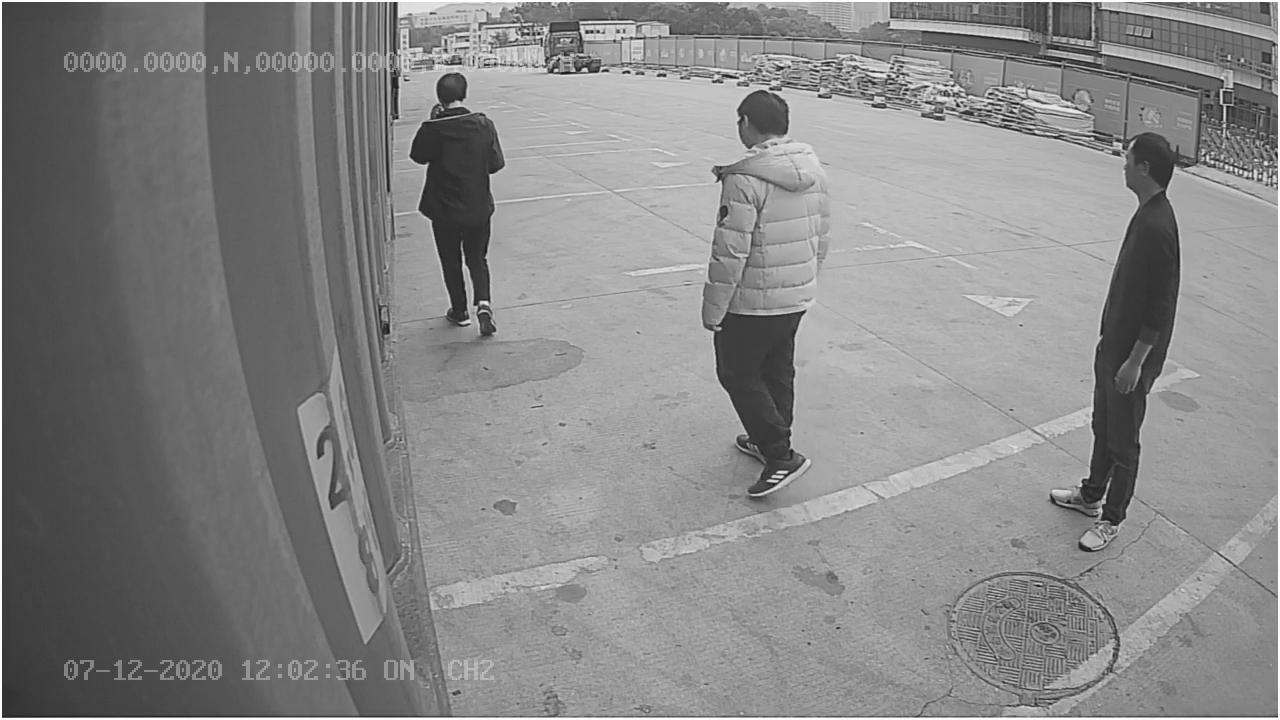person: (690, 81, 836, 502), (1047, 123, 1186, 551), (406, 73, 510, 340)
